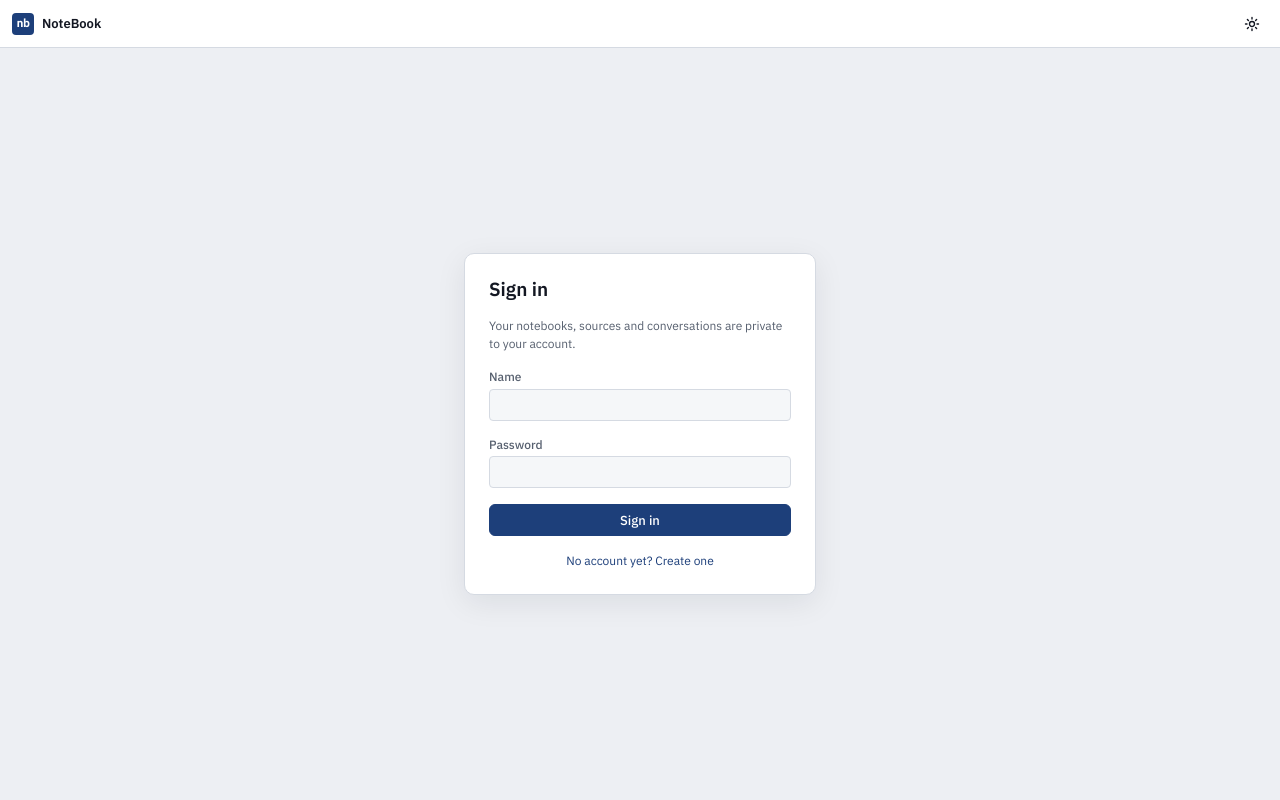
Test case: signing in › asks for a signup code when the server does require one
Click the button "No account yet? Create one": click(640, 561) [489,552,791,570]
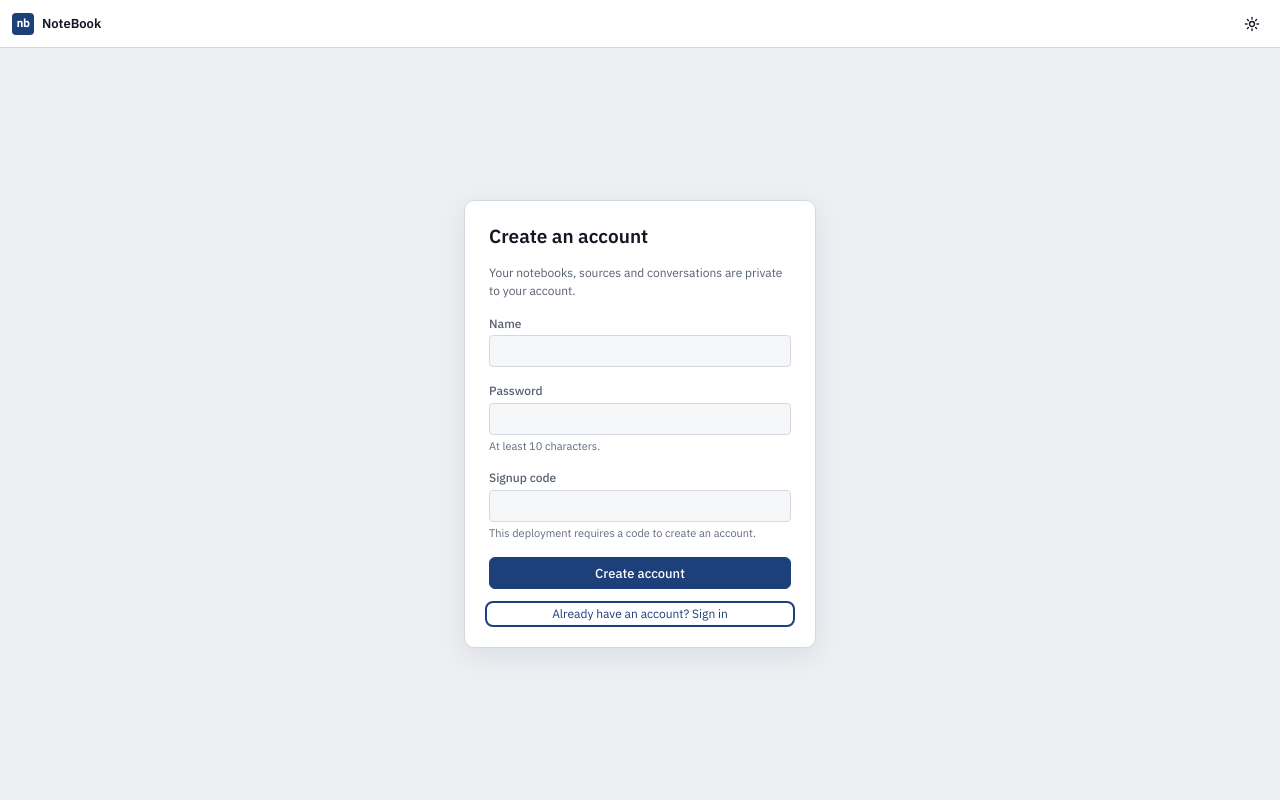
Check: the field labelled "Signup code" is shown, box [489,490,791,522]
